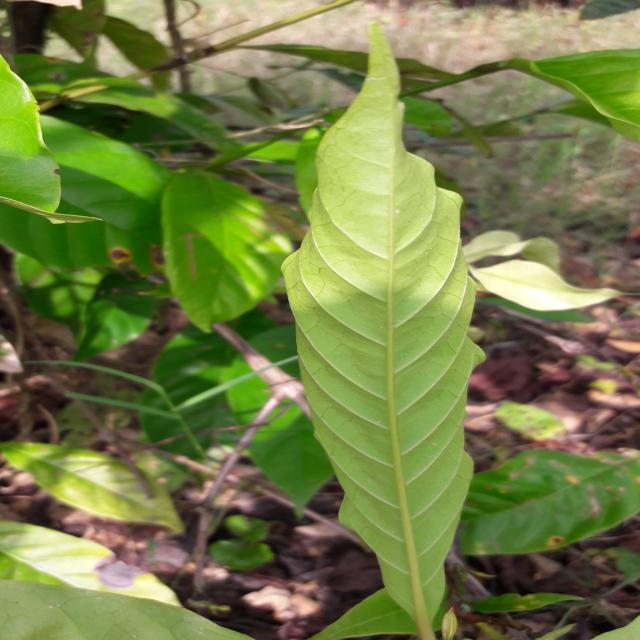Sanas: (281, 23, 485, 640)
